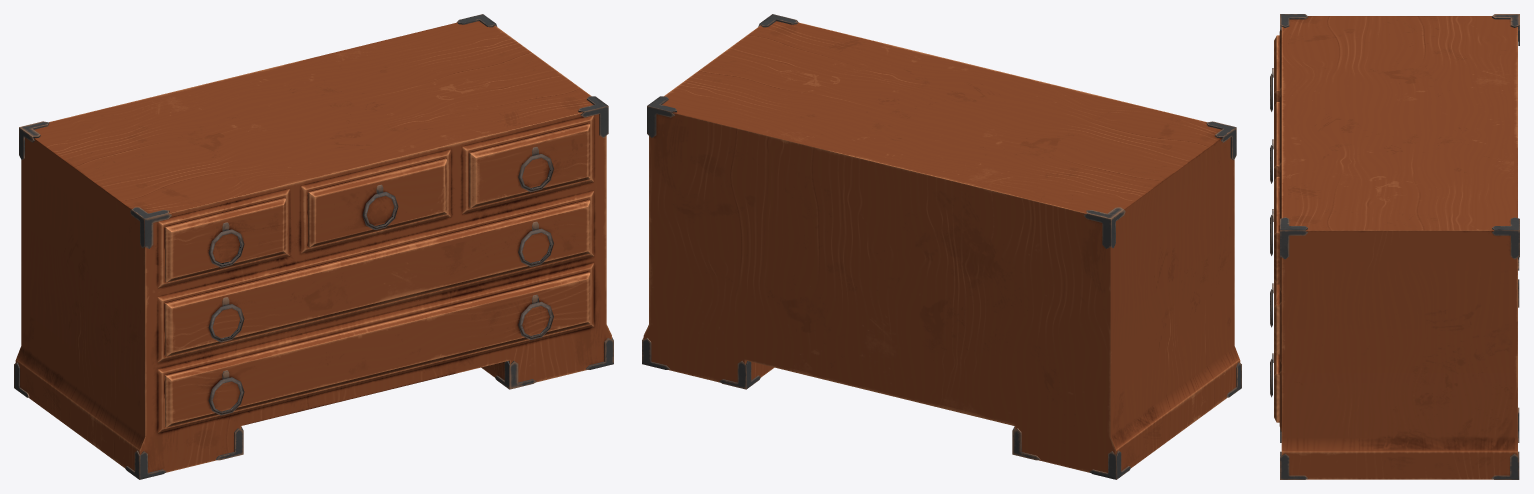
The model's file is a2_furn_drawers_01_.fbx.
The picture shows the model from 3 angles, left to right: view 1: azimuth 30°, elevation 25°; view 2: azimuth 150°, elevation 25°; view 3: azimuth 270°, elevation 25°; orthographic projection. The views are drawn at different scales.
Visible parts, largest first — view 1: a2_furn_drawers_01_; view 2: a2_furn_drawers_01_; view 3: a2_furn_drawers_01_.
Part boxes in pixels (box(x1,y1,x2,y2)): a2_furn_drawers_01_: box(14, 14, 613, 479); a2_furn_drawers_01_: box(642, 14, 1241, 479); a2_furn_drawers_01_: box(1270, 14, 1519, 479).
Bounding box in the file's own units: 169 × 88.21 × 80.65.
Materials: 1 (1 with a texture image).
